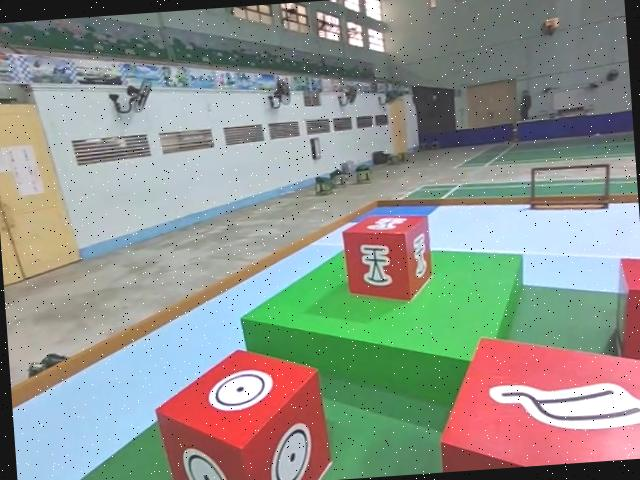R2 Real: (428, 315, 640, 472), (147, 341, 334, 480), (340, 208, 431, 309)
